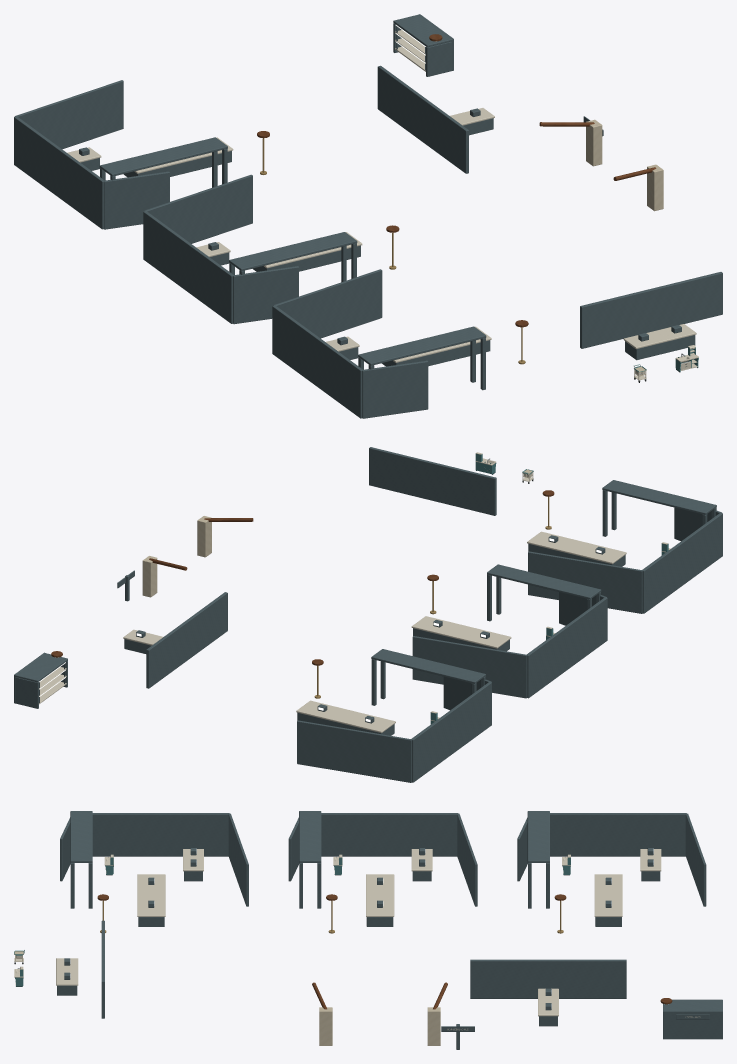
Rendered from SOL_D05_directory_03_source001.glb.
The picture shows the model from 3 angles, top to bottom: view 1: azimuth 30°, elevation 25°; view 2: azimuth 150°, elevation 25°; view 3: azimuth 270°, elevation 25°; orthographic projection. The views are drawn at different scales.
Visible parts, largest first — view 1: C_controlled_prep_back, C_research_back2, C_research_back0, C_research_back1, C_research_return2, C_archive_screen, C_research_return0, C_research_return1, C_research_short_return2, C_research_short_return0, C_research_short_return1, C_research_service_bridge1_header (+11 smaller); view 2: C_research_return0, C_controlled_prep_back, C_research_return1, C_research_return2, C_research_back2, C_research_back1, C_research_back0, C_archive_screen, C_research_service_bridge0_header, C_research_service_bridge2_header, C_research_service_bridge1_header, C_analysis_island1_top (+9 smaller); view 3: C_archive_screen, C_research_back1, C_research_back2, C_research_back0, C_care_back, C_research_service_bridge0_header, C_research_service_bridge1_header, C_research_service_bridge2_header, C_analysis_island2_top, C_analysis_island0_top, C_analysis_island1_top, C_research_return0 (+14 smaller).
Boxes of the visible parts, bbox=[...] form: C_controlled_prep_back: bbox=[580, 272, 722, 348]; C_research_back2: bbox=[272, 305, 362, 418]; C_research_back0: bbox=[14, 116, 104, 229]; C_research_back1: bbox=[143, 211, 233, 323]; C_research_return2: bbox=[273, 269, 382, 338]; C_archive_screen: bbox=[377, 65, 468, 173]; C_research_return0: bbox=[14, 80, 123, 149]; C_research_return1: bbox=[144, 174, 252, 243]; C_research_short_return2: bbox=[362, 360, 428, 418]; C_research_short_return0: bbox=[104, 171, 169, 229]; C_research_short_return1: bbox=[233, 266, 298, 324]; C_research_service_bridge1_header: bbox=[229, 232, 357, 271]; C_research_return0: bbox=[297, 720, 411, 782]; C_controlled_prep_back: bbox=[369, 447, 496, 515]; C_research_return1: bbox=[412, 636, 527, 698]; C_research_return2: bbox=[528, 551, 642, 613]; C_research_back2: bbox=[642, 513, 722, 613]; C_research_back1: bbox=[526, 597, 607, 698]; C_research_back0: bbox=[411, 682, 491, 782]; C_archive_screen: bbox=[146, 592, 227, 688]; C_research_service_bridge0_header: bbox=[371, 649, 485, 683]; C_research_service_bridge2_header: bbox=[602, 480, 716, 514]; C_research_service_bridge1_header: bbox=[487, 564, 601, 599]; C_analysis_island1_top: bbox=[411, 616, 511, 648]; C_archive_screen: bbox=[470, 959, 626, 998]; C_research_back1: bbox=[321, 813, 458, 856]; C_research_back2: bbox=[92, 813, 229, 856]; C_research_back0: bbox=[550, 813, 686, 856]; C_care_back: bbox=[663, 1010, 722, 1039]; C_research_service_bridge0_header: bbox=[527, 811, 549, 862]; C_research_service_bridge1_header: bbox=[299, 811, 321, 862]; C_research_service_bridge2_header: bbox=[70, 811, 92, 862]; C_analysis_island2_top: bbox=[137, 874, 165, 916]; C_analysis_island0_top: bbox=[594, 874, 622, 916]; C_analysis_island1_top: bbox=[366, 874, 394, 916]; C_research_return0: bbox=[685, 813, 706, 906].
Size of the model in its own units: 38.3 by 4.4 by 58.92.
Materials: 19 (18 with a texture image).
